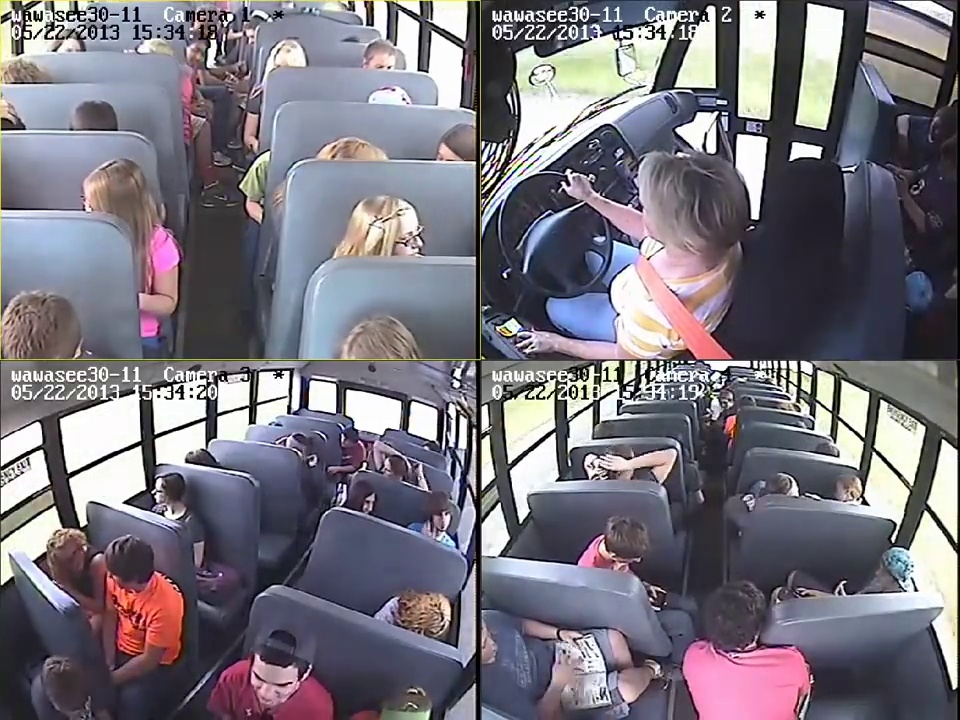face: (247, 657, 297, 709), (377, 212, 432, 258)
